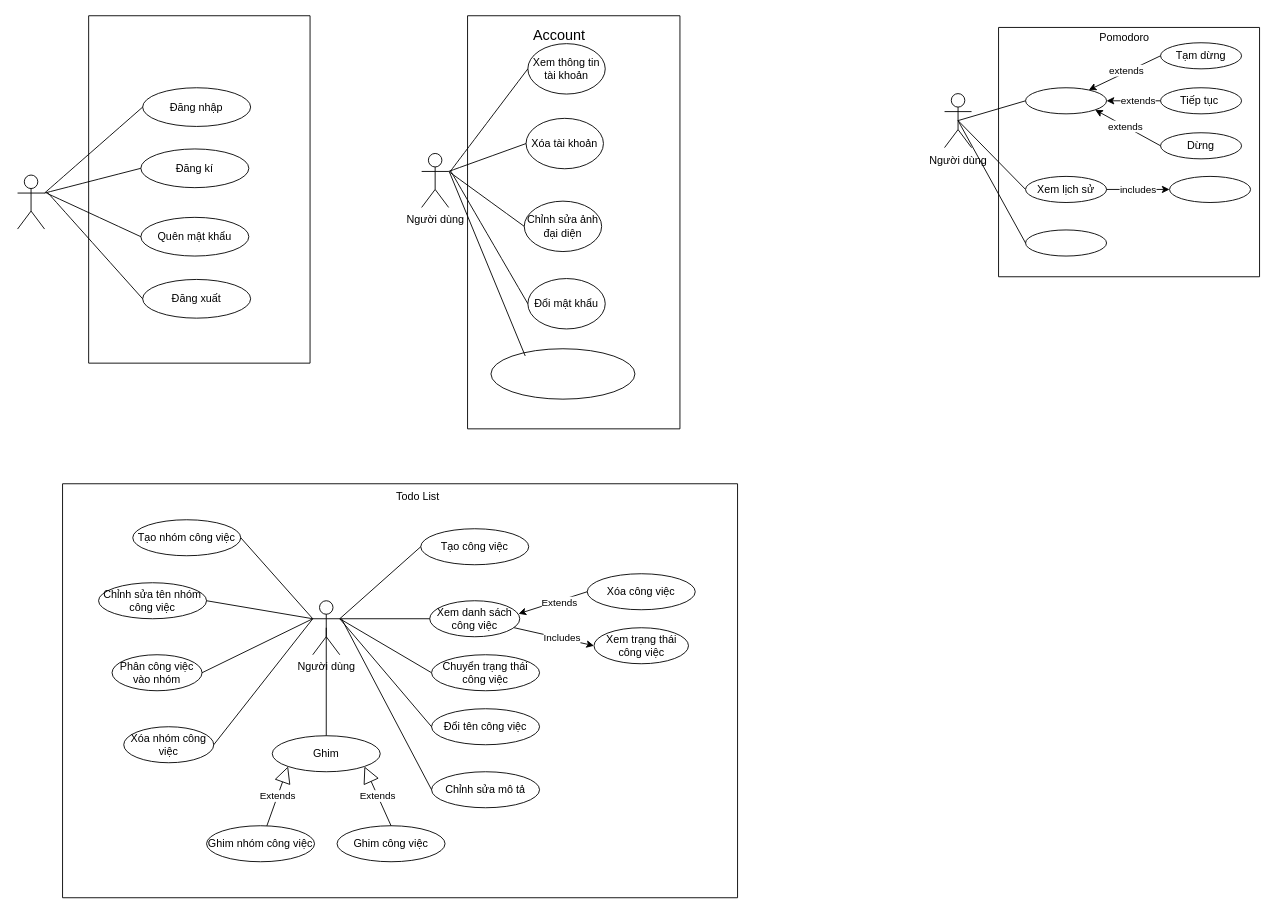
Some shapes in this 1275 by 914 pixel diagram are drawn without their labels. The centre of each missing label's shape, as x and y in pixels:
Authetication: point 199,189
Bấm giờ: point 1066,100
Chỉnh sửa thông tin cá nhân: point 562,373
Khách: point 31,201
Xem thống kê: point 1210,189
Đặt giới hạn: point 1066,242
